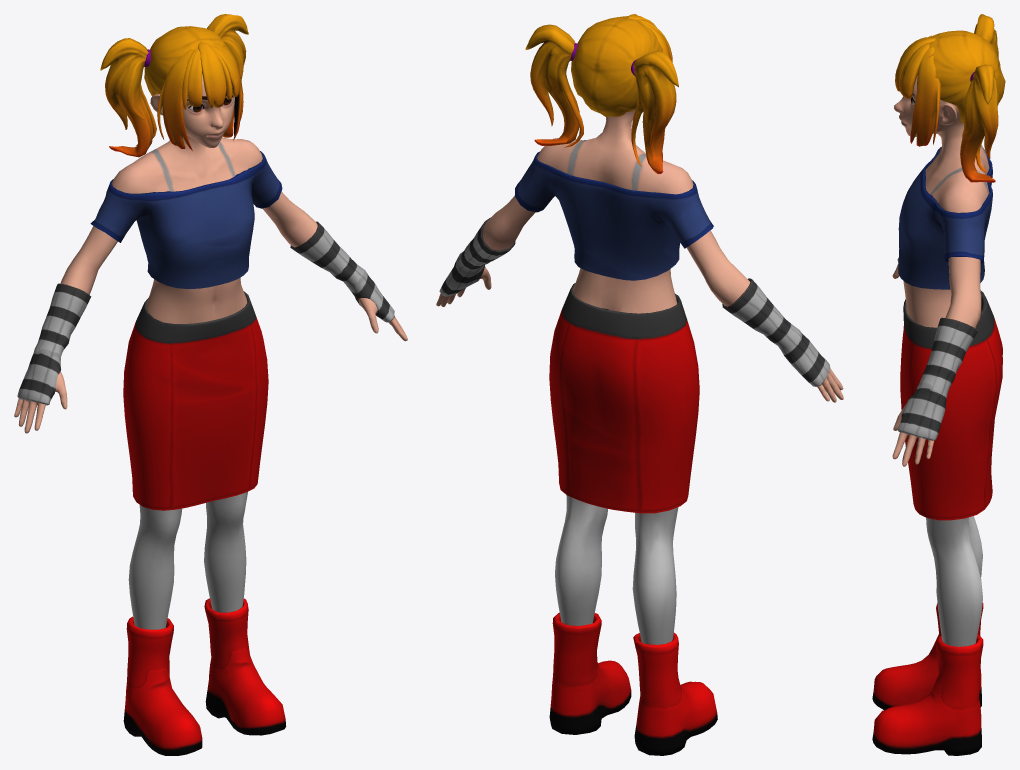
Rendered from Mondy_Mesh.obj.
3 views of the same model, side by side, from view 1: azimuth 30°, elevation 25°; view 2: azimuth 150°, elevation 25°; view 3: azimuth 270°, elevation 25° (orthographic). The views are drawn at different scales.
Parts seen in each view (by area): view 1: Mondy_Mesh_0; view 2: Mondy_Mesh_0; view 3: Mondy_Mesh_0.
Part boxes in pixels (x1,y1,x2,y2): Mondy_Mesh_0: (14,14,407,755); Mondy_Mesh_0: (436,14,843,755); Mondy_Mesh_0: (872,14,1005,755).
Bounding box in the file's own units: 1.06 × 1.82 × 0.317.
1 material, 1 textured.
